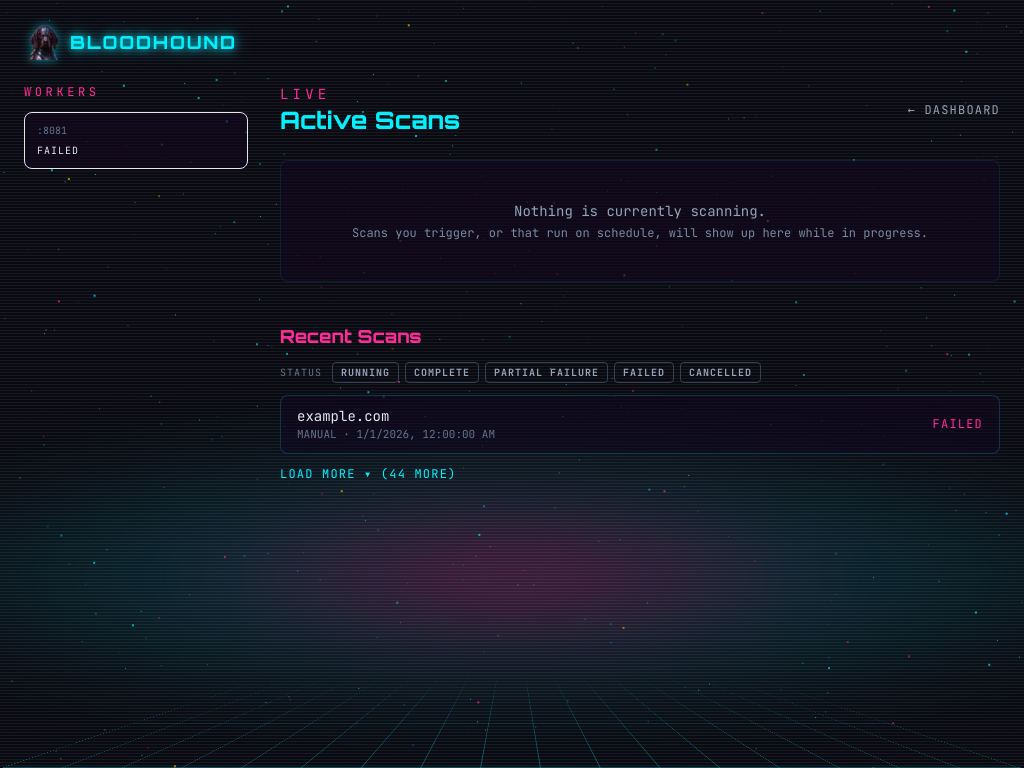
Scenario: ScansPage - Recent Scans filtering and pagination › shows 'Load more' only when more results exist, and clicking it fetches a bigger page
expect the text "example.com" is shown: met, box [297, 407, 389, 425]
Click the button "Load more ▾ (44 more)" at (368, 474), box [280, 466, 456, 482]
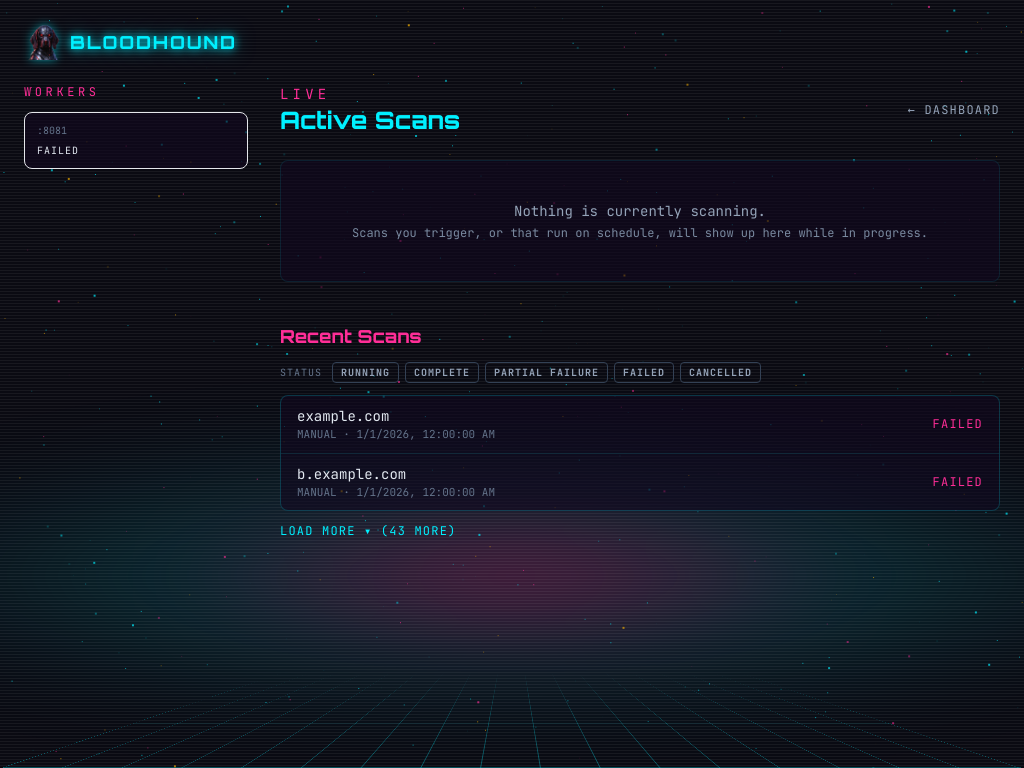
expect the text "b.example.com" is shown: met, box [297, 464, 406, 482]
